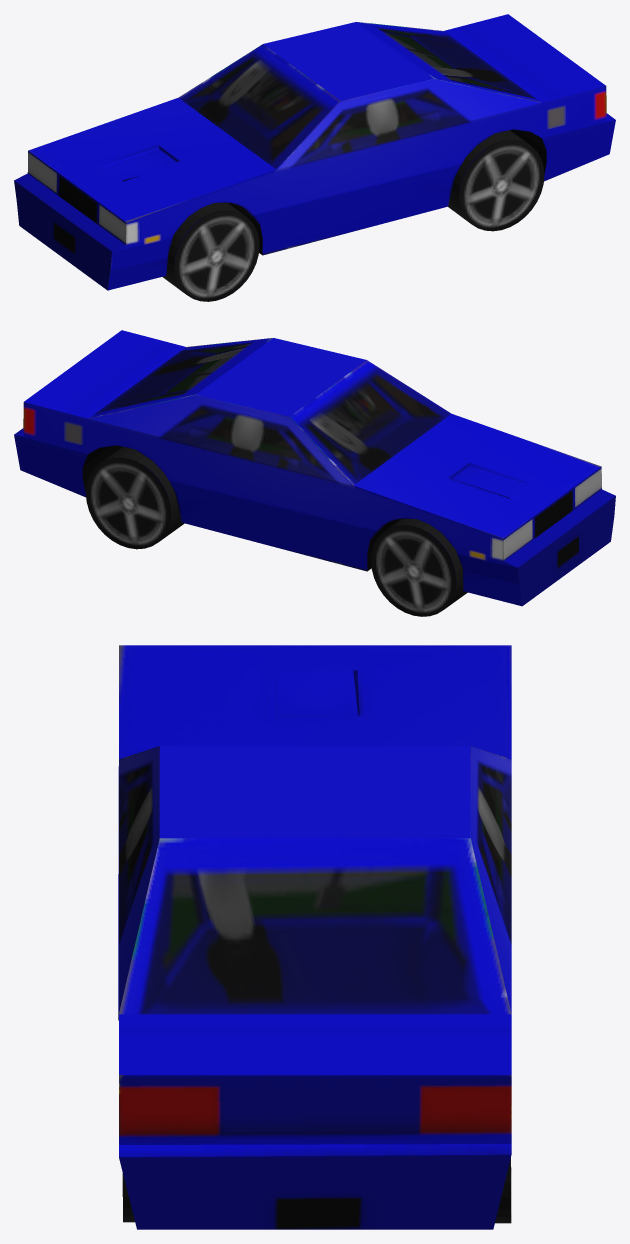
File: brookhaven_roblox_car.glb
3 renders of one model, top to bottom at view 1: azimuth 30°, elevation 25°; view 2: azimuth 150°, elevation 25°; view 3: azimuth 270°, elevation 25°, orthographic. The views are drawn at different scales.
Visible parts, largest first — view 1: Plane_2; view 2: Plane_2; view 3: Plane_2.
Part boxes in pixels (box(x1,y1,x2,y2)): Plane_2: box(14, 14, 615, 301); Plane_2: box(14, 330, 615, 616); Plane_2: box(118, 645, 511, 1229).
Size of the model in its own units: 2.07 by 0.6326 by 0.7008.
Materials: 1 (1 with a texture image).
